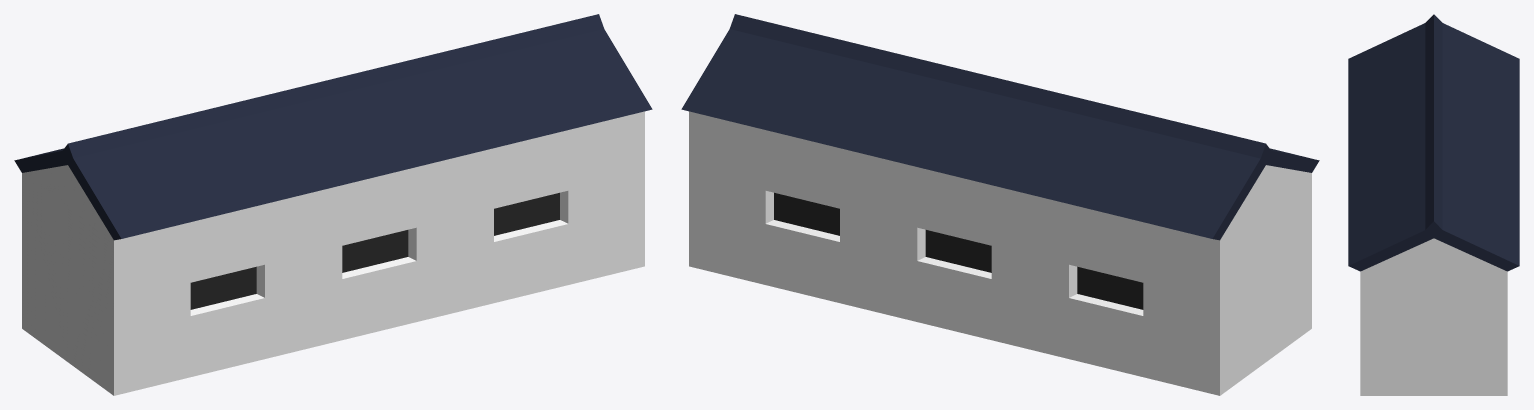
File: japan_wall-japan_medium.fbx
3 views of the same model, side by side, from view 1: azimuth 30°, elevation 25°; view 2: azimuth 150°, elevation 25°; view 3: azimuth 270°, elevation 25° (orthographic). The views are drawn at different scales.
Visible parts, largest first — view 1: japan_wall_japan_medium; view 2: japan_wall_japan_medium; view 3: japan_wall_japan_medium.
Part boxes in pixels (x1,y1,x2,y2): japan_wall_japan_medium: (14, 14, 652, 395); japan_wall_japan_medium: (681, 14, 1319, 395); japan_wall_japan_medium: (1348, 14, 1519, 395).
Size of the model in its own units: 200 by 78.72 by 70.
